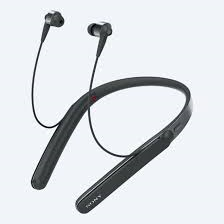earphone: (17, 3, 197, 209)
